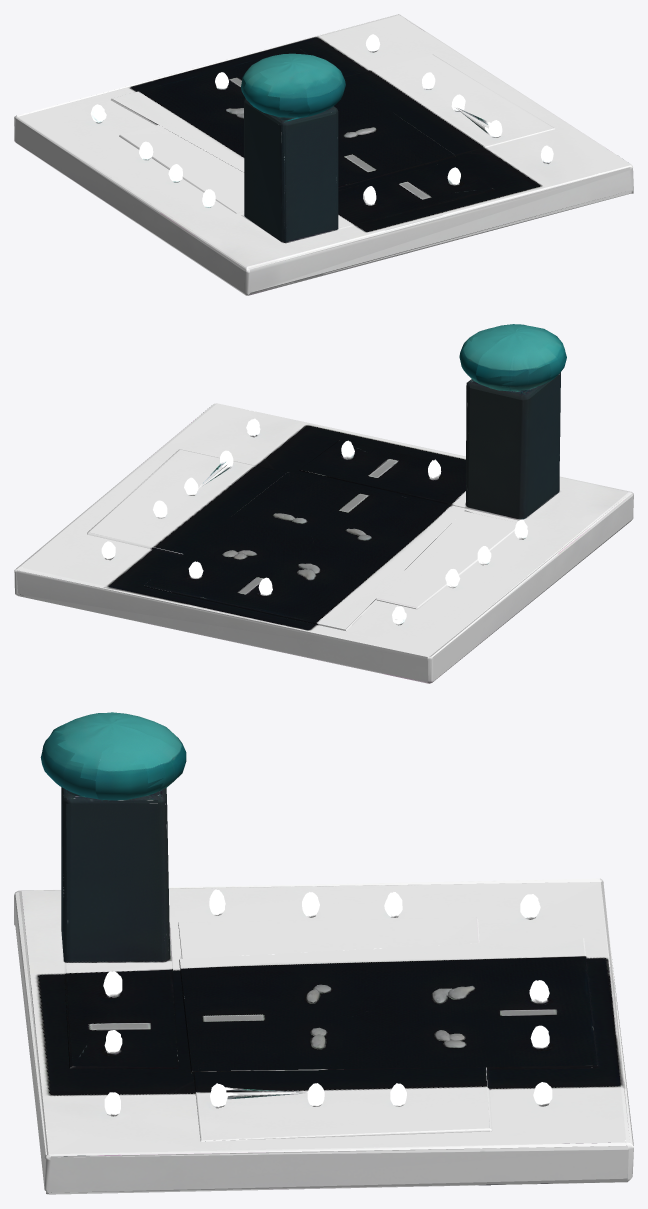
Rendered from airfield.glb.
3 views of the same model, one above another, from view 1: azimuth 30°, elevation 25°; view 2: azimuth 150°, elevation 25°; view 3: azimuth 270°, elevation 25° (orthographic). The views are drawn at different scales.
Size of the model in its own units: 1 by 0.4395 by 0.9492.
1 material, 1 textured.
